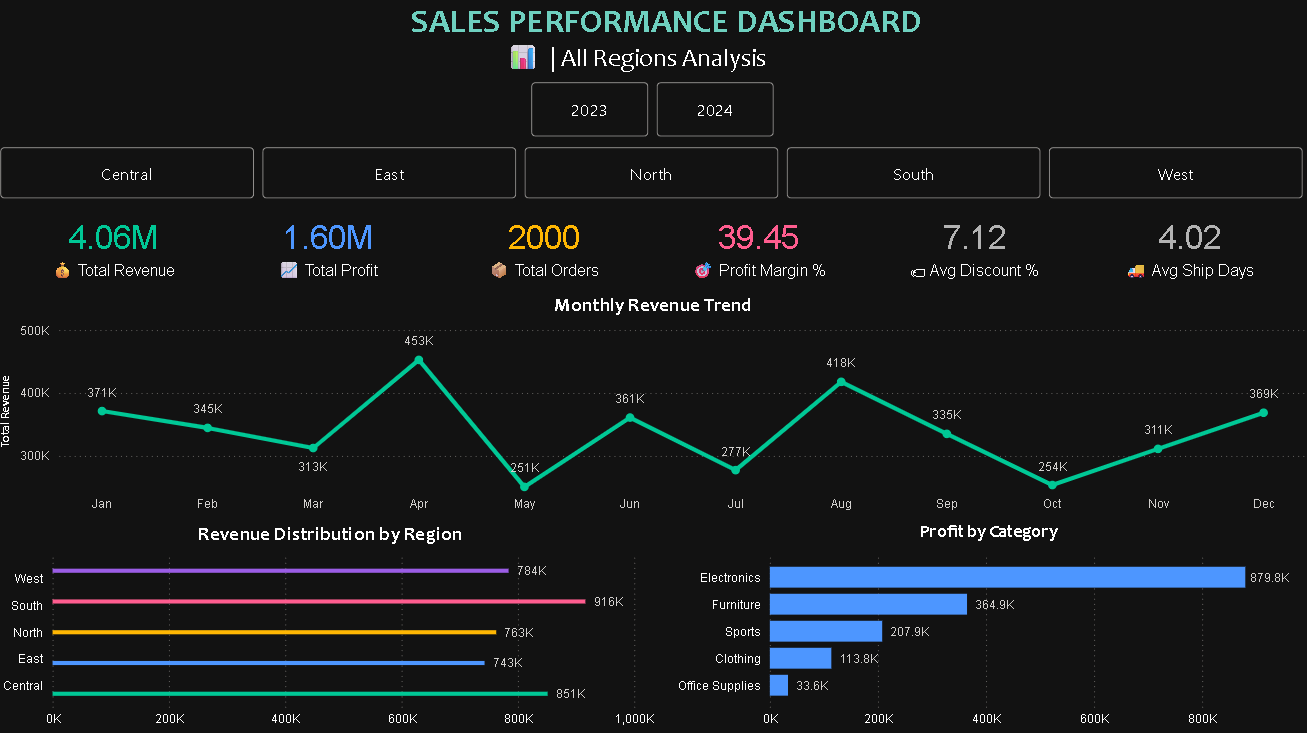

This screenshot's page, from the dashboard's own definition file:
{"tool":"powerbi","page":{"name":"Executive Overview","canvas":[1280,720],"ordinal":0},"visuals":[{"type":"card","fields":{"Values":["DateTable.Total Profit"]},"box":[233.8,203.3,180,80],"z":0},{"type":"card","fields":{"Values":["DateTable.Avg Discount %"]},"box":[862.3,203.3,180,80],"z":1000},{"type":"card","fields":{"Values":["DateTable.Profit Margin %"]},"box":[652.8,203.3,180,80],"z":2000},{"type":"card","fields":{"Values":["DateTable.Total Revenue"]},"box":[24.3,203.3,180,80],"z":3000},{"type":"card","fields":{"Values":["DateTable.Avg Ship Days"]},"box":[1071.9,203.3,180,80],"z":4000},{"type":"card","fields":{"Values":["DateTable.Total Orders"]},"box":[443.3,203.3,180,80],"z":5000},{"type":"lineChart","title":"Monthly Revenue Trend","fields":{"Category":["DateTable.Month"],"Y":["DateTable.Total Revenue"]},"box":[0,287.9,1280,222.7],"z":6000},{"type":"clusteredBarChart","title":"Revenue Distribution by Region","fields":{"Category":["sales_data_clean.region"],"Series":["sales_data_clean.region"],"Y":["DateTable.Total Revenue"]},"box":[0,510.6,652.6,209.1],"z":7000},{"type":"clusteredBarChart","title":"Profit by Category","fields":{"Category":["sales_data_clean.category"],"Y":["DateTable.📈 Total Profit"]},"box":[652.6,510.6,627.4,209.1],"z":8000},{"type":"advancedSlicerVisual","fields":{"Values":["DateTable.Date.Variation.Date Hierarchy.Year"]},"box":[516.5,78.8,246.1,63.2],"z":9000},{"type":"advancedSlicerVisual","fields":{"Values":["sales_data_clean.region"]},"box":[0,142,1280,60.3],"z":10000},{"type":"textbox","box":[399.8,0,585.5,64.2],"z":11000},{"type":"card","fields":{"Values":["DateTable.Dashboard Title"]},"box":[286.9,32.1,673.1,55.4],"z":12000}]}

Visuals, with their boxes in screenshot pixels (x1, y1, x2, y2), scaled from the page's 1280x720 canvas onto the 1307x733 screenshot:
card - DateTable.Total Profit: 239, 207, 423, 288
card - DateTable.Avg Discount %: 880, 207, 1064, 288
card - DateTable.Profit Margin %: 667, 207, 850, 288
card - DateTable.Total Revenue: 25, 207, 209, 288
card - DateTable.Avg Ship Days: 1095, 207, 1278, 288
card - DateTable.Total Orders: 453, 207, 636, 288
"Monthly Revenue Trend" lineChart: 0, 293, 1306, 520
"Revenue Distribution by Region" clusteredBarChart: 0, 520, 666, 732
"Profit by Category" clusteredBarChart: 666, 520, 1306, 732
advancedSlicerVisual - DateTable.Date.Variation.Date Hierarchy.Year: 527, 80, 779, 145
advancedSlicerVisual - sales_data_clean.region: 0, 145, 1306, 206
textbox: 408, 0, 1006, 65
card - DateTable.Dashboard Title: 293, 33, 980, 89
